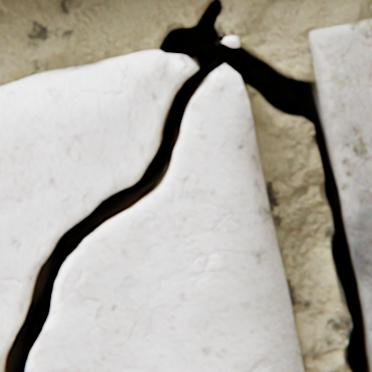brick: (309, 19, 371, 371)
broken_brick: (28, 66, 303, 371), (0, 50, 195, 371), (223, 36, 239, 46)
crack: (2, 0, 370, 371)
